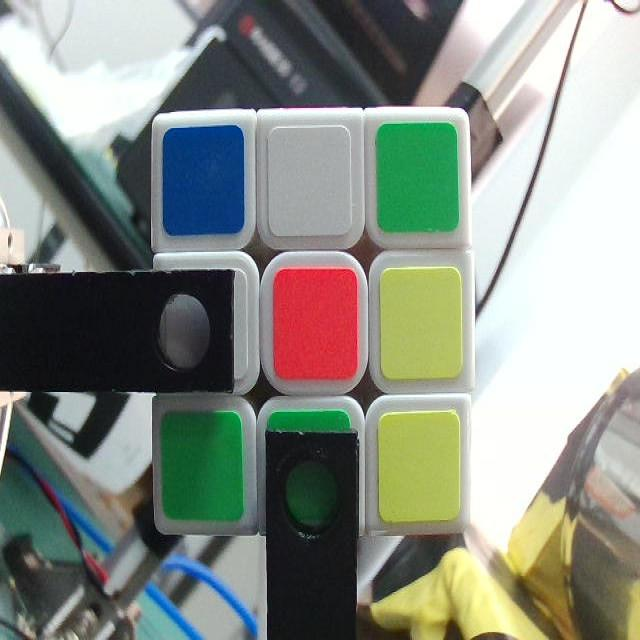b: (164, 130, 241, 234)
g: (375, 126, 460, 237), (160, 413, 243, 517), (270, 415, 352, 519)
o: (274, 271, 356, 379)
w: (162, 273, 245, 374), (269, 133, 351, 234)
y: (382, 269, 460, 380), (379, 419, 459, 512)
